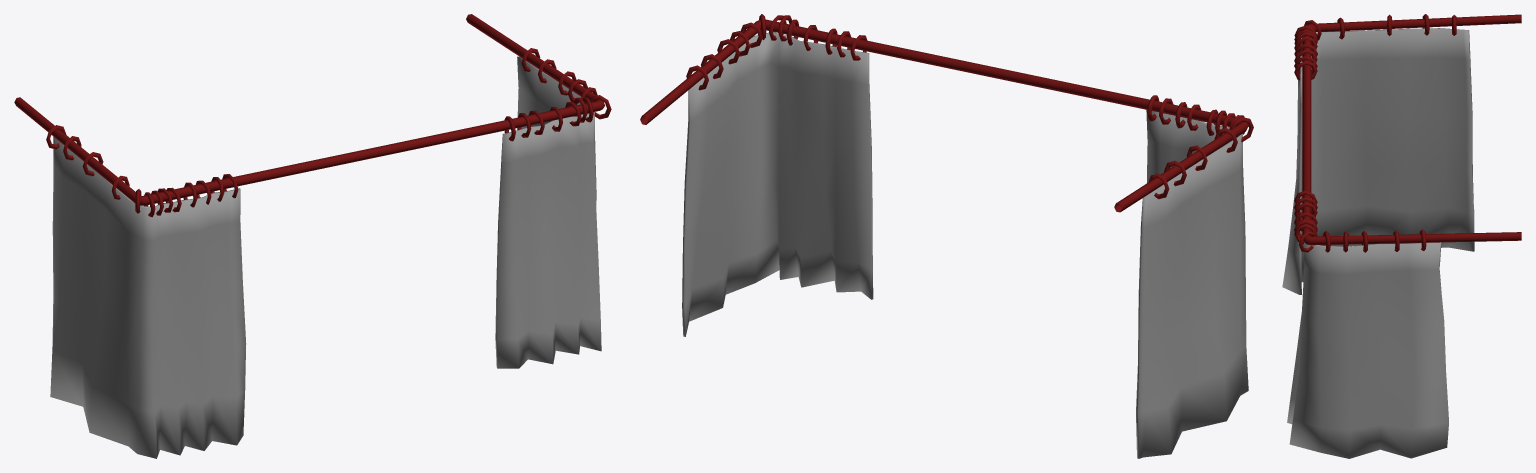
File: BathroomCourtain.FBX
The picture shows the model from 3 angles, left to right: view 1: azimuth 30°, elevation 25°; view 2: azimuth 150°, elevation 25°; view 3: azimuth 270°, elevation 25°; orthographic projection. The views are drawn at different scales.
Parts seen in each view (by area): view 1: BathroomCourtain; view 2: BathroomCourtain; view 3: BathroomCourtain.
Boxes of the visible parts, x1=… form: BathroomCourtain: x1=14, y1=14, x2=611, y2=458; BathroomCourtain: x1=640, y1=14, x2=1253, y2=458; BathroomCourtain: x1=1282, y1=14, x2=1521, y2=458.
Bounding box in the file's own units: 13.4 × 7.18 × 6.44.
